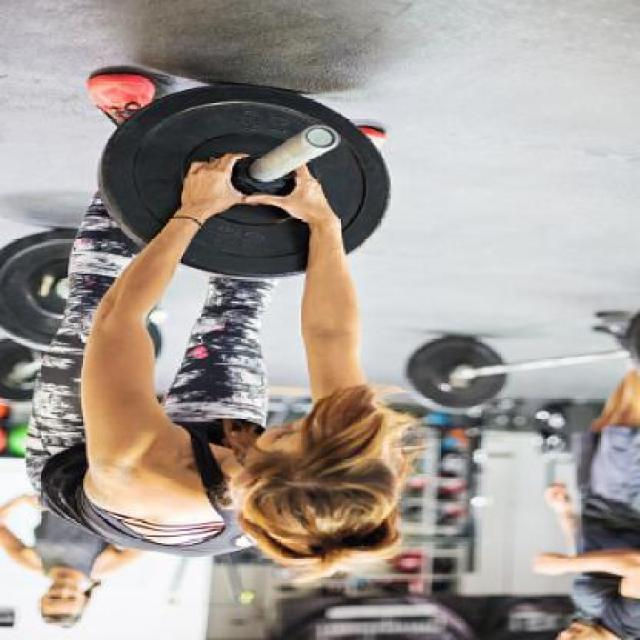Barbell: (296, 115, 350, 160)
